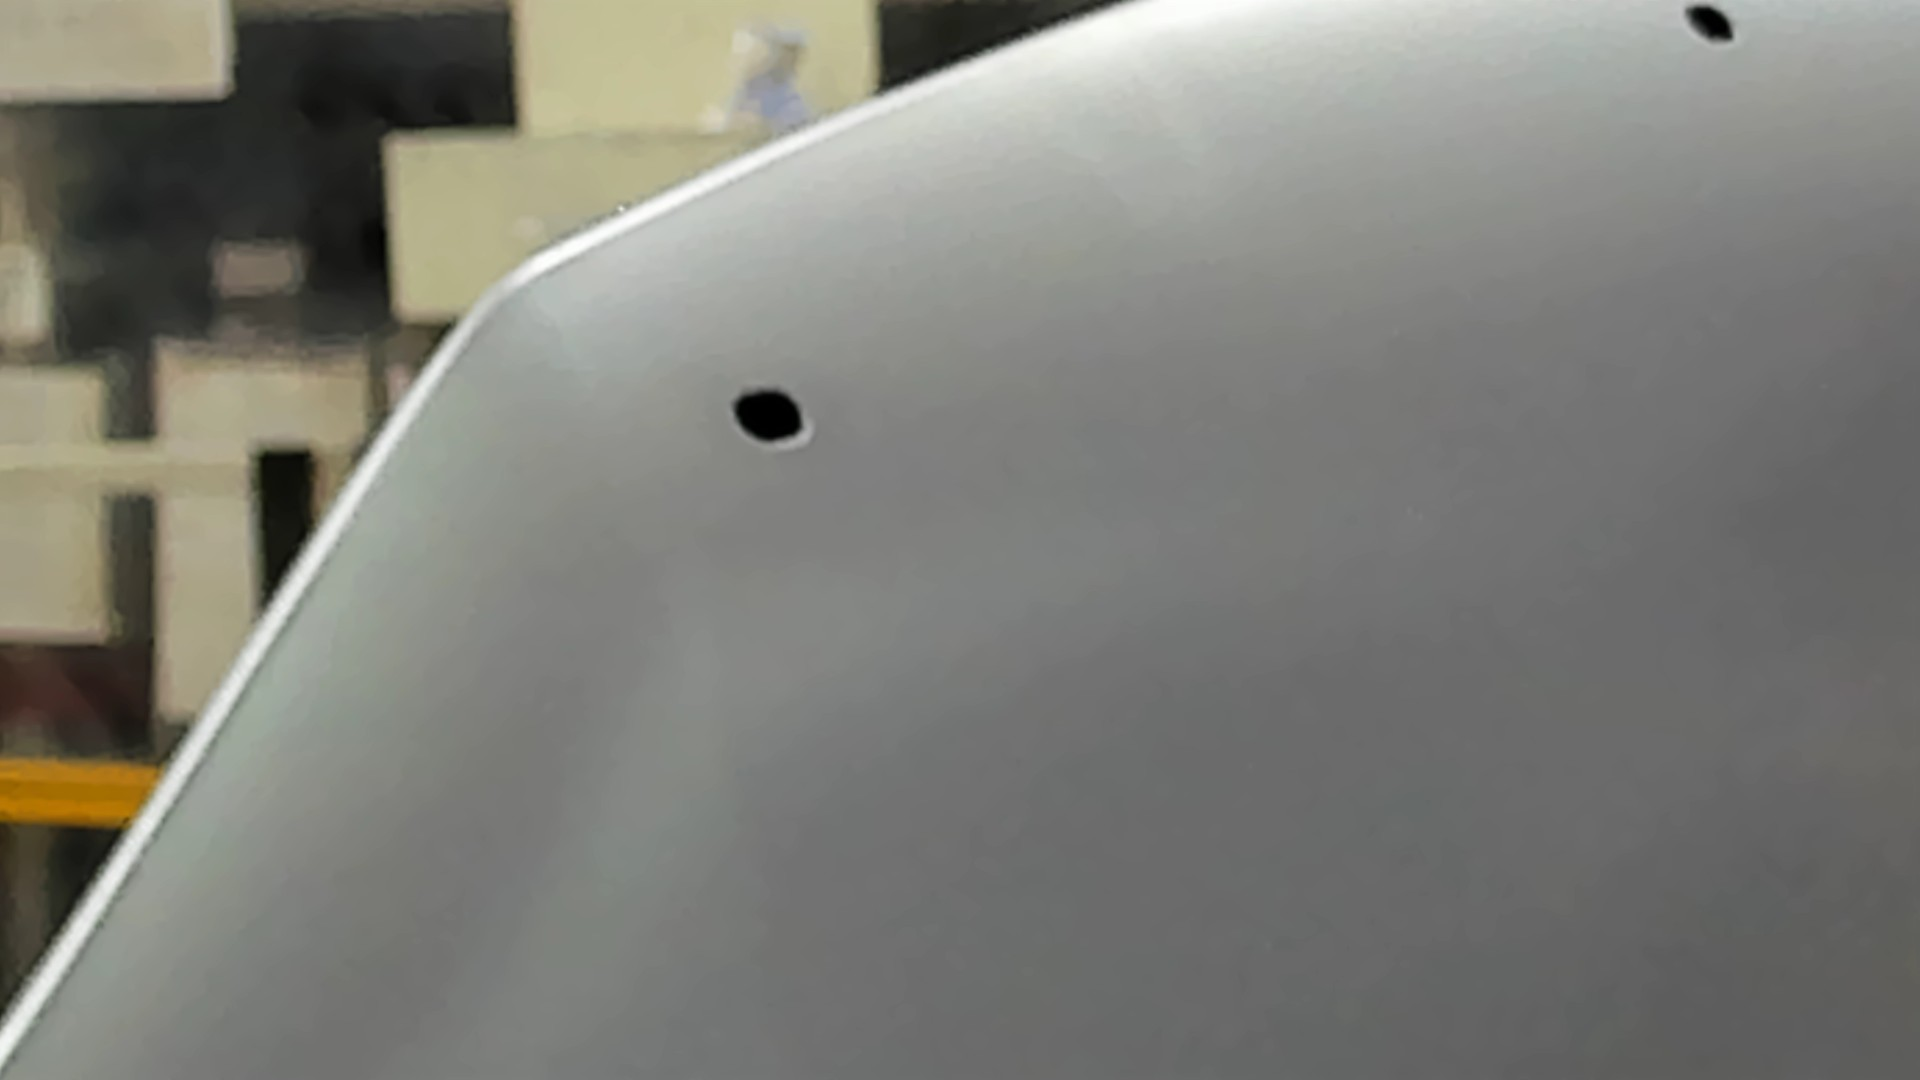amorfo: (724, 382, 811, 450), (1675, 4, 1749, 53)
